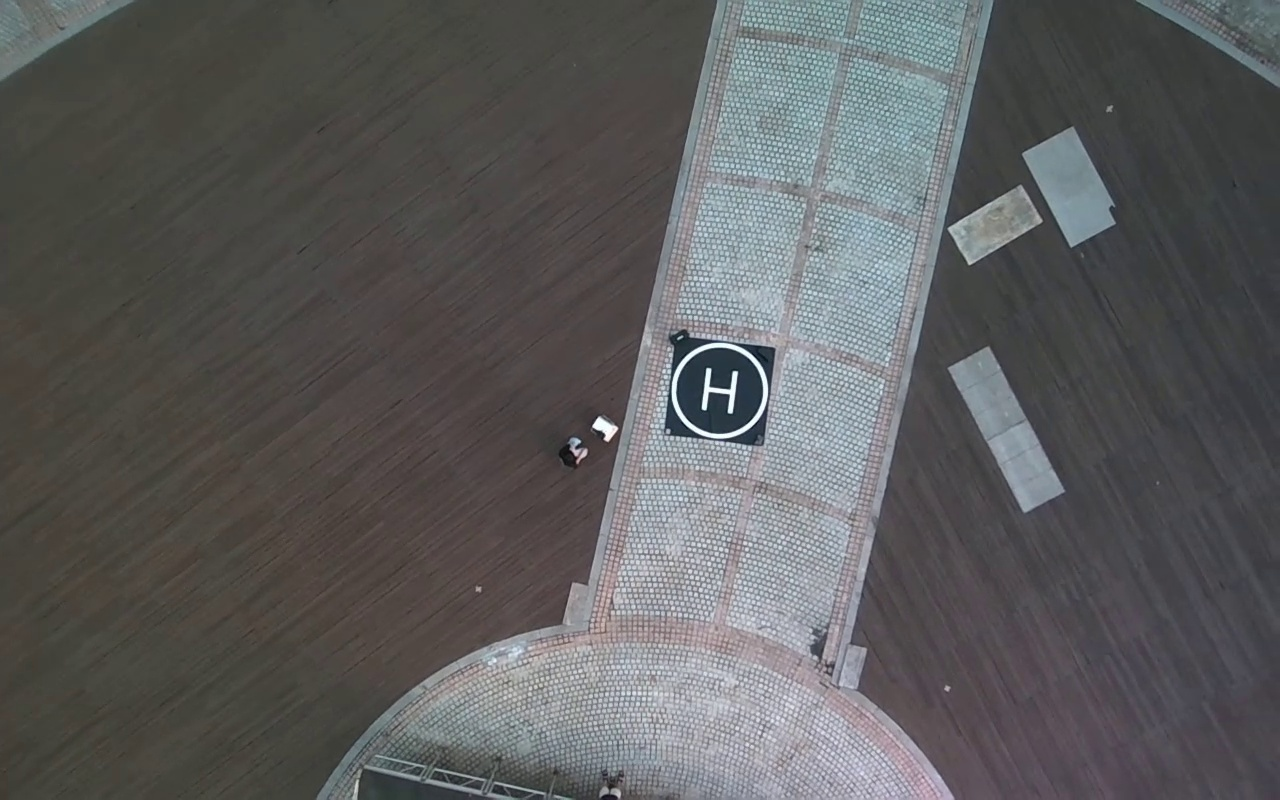H: (700, 367, 737, 414)
heliport: (671, 342, 770, 439)
